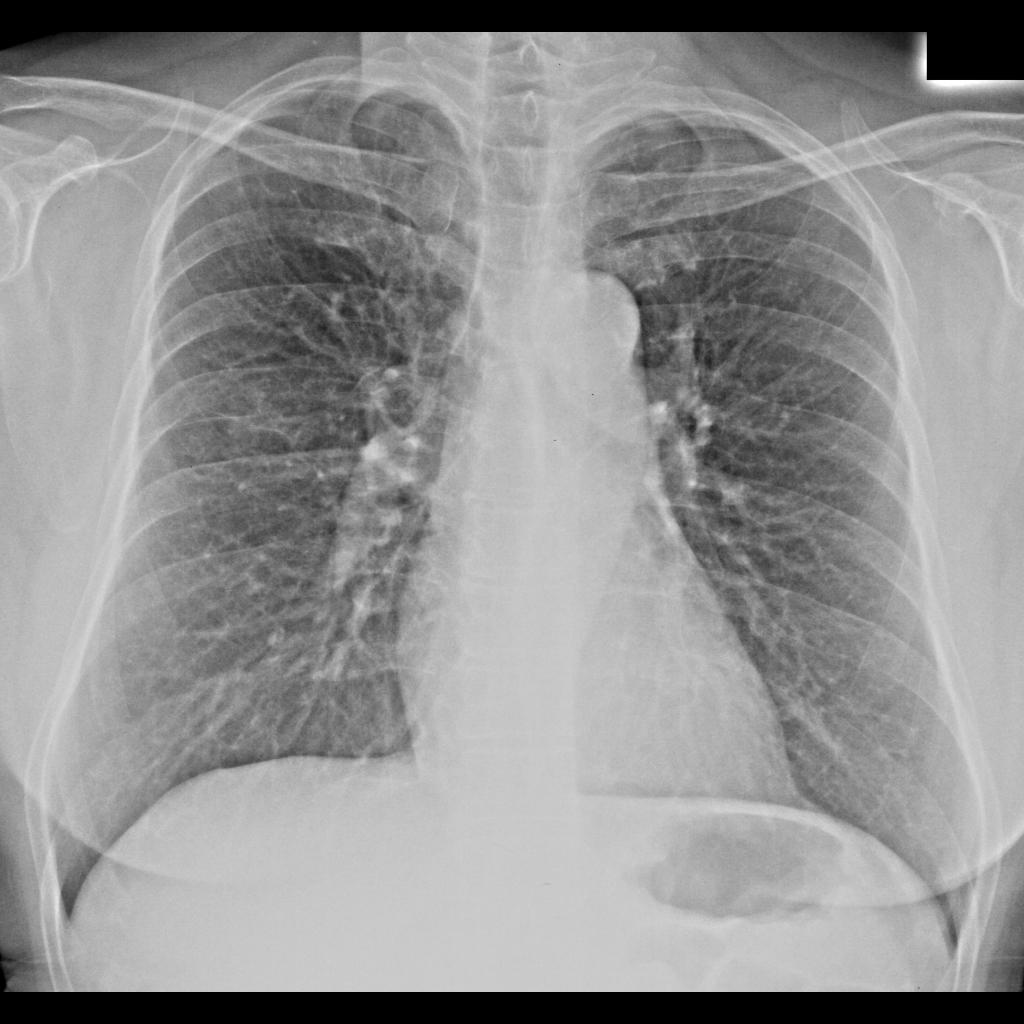Nodule: (203, 363, 290, 450)
